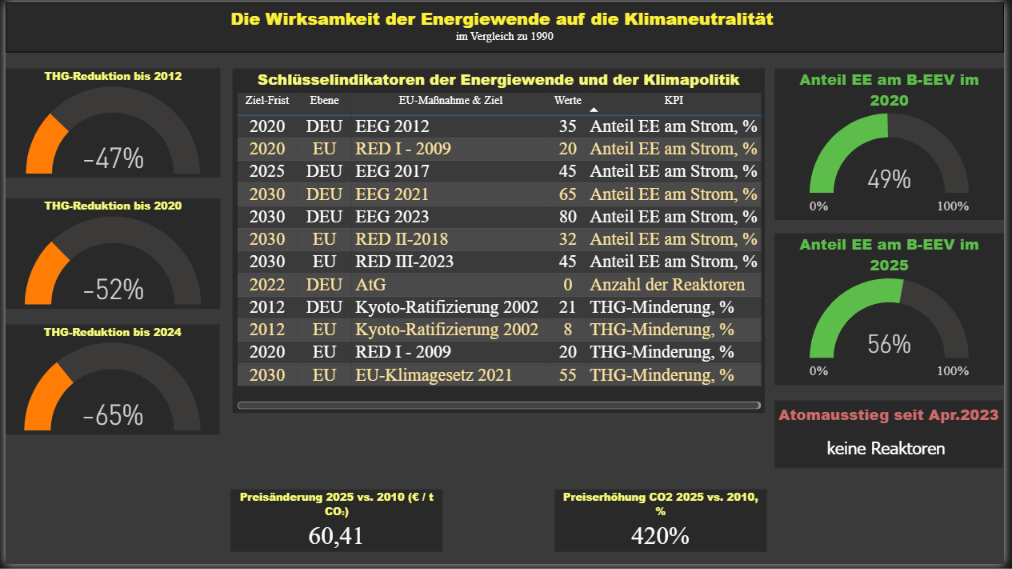

This screenshot's page, from the dashboard's own definition file:
{"tool":"powerbi","page":{"name":"Ziel_Egebnisse","canvas":[1280,720],"ordinal":7},"visuals":[{"type":"gauge","title":"THG-Reduktion bis 2012","fields":{"Y":["Kennzahlen.Kyoto-THG_Minderung"]},"box":[0,85.1,275.6,139.9],"z":0},{"type":"card","title":"Preiserhöhung CO2 2025 vs. 2010, %","fields":{"Values":["Carbon_Emissions_Futures_Historical_Data_mthly__1.Diff_%_ECTS"]},"box":[704,624,272,80],"z":1000},{"type":"card","title":"Preisänderung 2025 vs. 2010 (€ / t CO₂)","fields":{"Values":["fact_CO2-Preise_Monate.Diff_EUR_ECTS"]},"box":[288,624,272,80],"z":2000},{"type":"gauge","title":"THG-Reduktion bis 2020","fields":{"Y":["Kennzahlen.20_20_20"]},"box":[0,251,275.6,141.4],"z":3000},{"type":"gauge","title":"Anteil EE am B-EEV im 2020","fields":{"Y":["Anteil EE_Stromerzeugung.Anteil EE_strom_2020"]},"box":[985.4,85.1,294.3,194.8],"z":4000},{"type":"gauge","title":"Anteil EE am B-EEV im 2025","fields":{"Y":["Anteil EE_Stromerzeugung.Anteil EE_strom_2025"]},"box":[985.4,295.8,294.3,194.8],"z":5000},{"type":"gauge","title":"THG-Reduktion bis 2024","fields":{"Y":["Kennzahlen.PF55"]},"box":[0,412.6,274.1,141.4],"z":6000},{"type":"tableEx","title":"Schlüsselindikatoren der Energiewende und der Klimapolitik","fields":{"Values":["Ziel Maßnahme.Ziel-Frist","Ziel Maßnahme.Ebene","Ziel Maßnahme.EU-Maßnahme & Ziel","Ziel Maßnahme.Werte","dim_Ziel Kennzahlen.Kennzahlen"]},"box":[291.4,85.1,682.4,441.5],"z":7000},{"type":"textbox","box":[985.4,510.7,292.9,86.6],"z":8000},{"type":"textbox","box":[0,0,1280,64],"z":9000}]}

Visuals, with their boxes in screenshot pixels (x1, y1, x2, y2), scaled from the page's 1280x720 canvas onto the 1012x569 screenshot:
"THG-Reduktion bis 2012" gauge: (0,67,218,178)
"Preiserhöhung CO2 2025 vs. 2010, %" card: (557,493,772,556)
"Preisänderung 2025 vs. 2010 (€ / t CO₂)" card: (228,493,443,556)
"THG-Reduktion bis 2020" gauge: (0,198,218,310)
"Anteil EE am B-EEV im 2020" gauge: (779,67,1011,221)
"Anteil EE am B-EEV im 2025" gauge: (779,234,1011,388)
"THG-Reduktion bis 2024" gauge: (0,326,217,438)
"Schlüsselindikatoren der Energiewende und der Klimapolitik" tableEx: (230,67,770,416)
textbox: (779,404,1011,472)
textbox: (0,0,1011,51)
